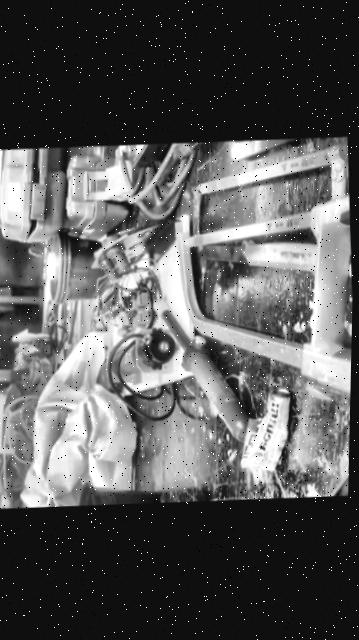pot: (77, 483, 158, 506)
